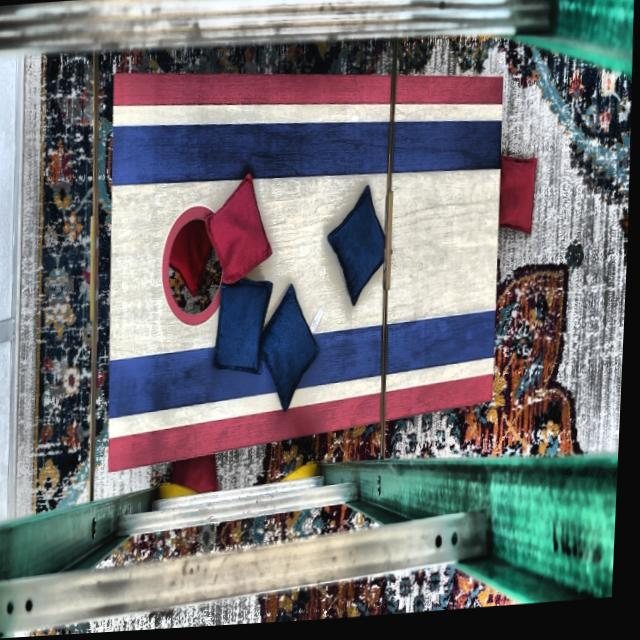blue-bean-bag: (258, 287, 326, 417), (326, 189, 398, 311), (215, 283, 277, 382)
board: (106, 83, 508, 432)
hole: (161, 206, 236, 330)
red-bean-bag: (204, 175, 279, 290), (499, 158, 540, 244), (173, 457, 224, 498)
red-bean-bag-in-hole: (169, 221, 216, 300)
